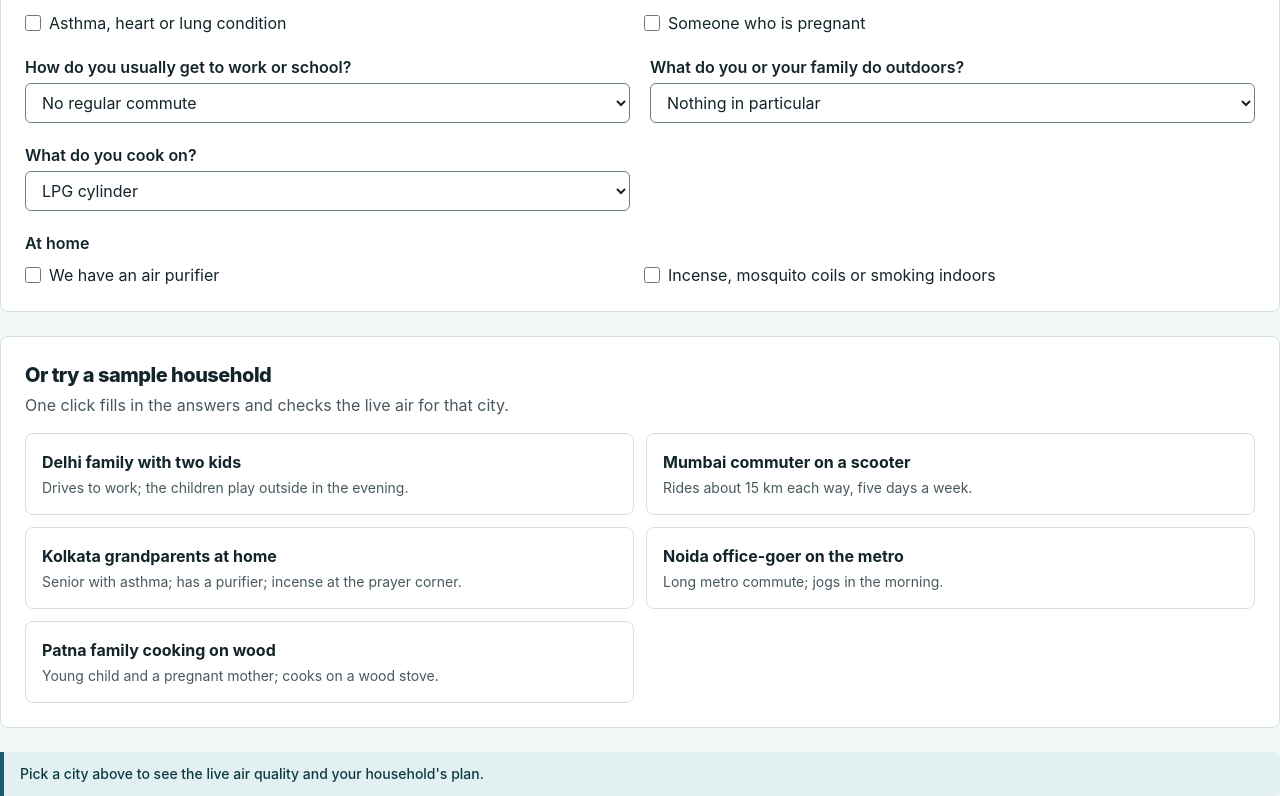
Test case: sample households › fills in the answers and checks the live air for that city in one click
The width and height of the screenshot is (1280, 796).
(page scrolled)
Click the button "Delhi family with two kids": (142, 462) 25,433 -> 634,515
(page scrolled)
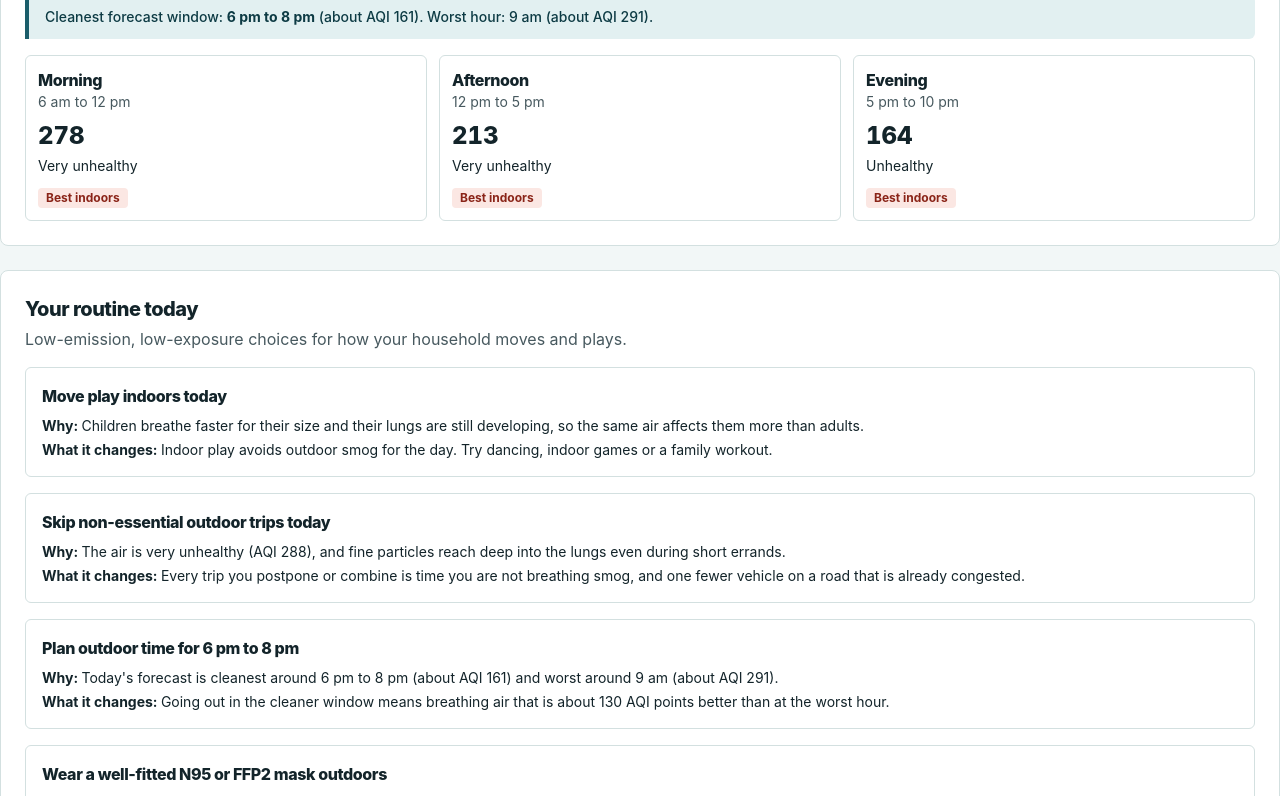
Expected: the heading "Move play indoors today" is shown, 42,386 -> 227,406
